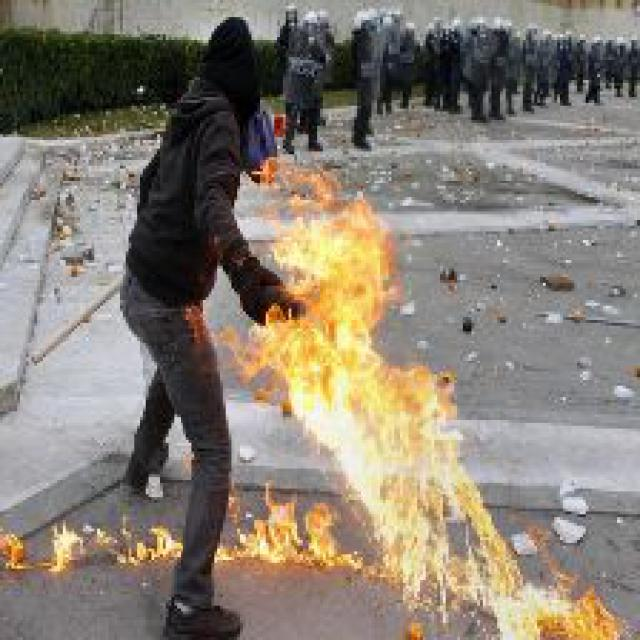fire: (266, 223, 631, 637)
